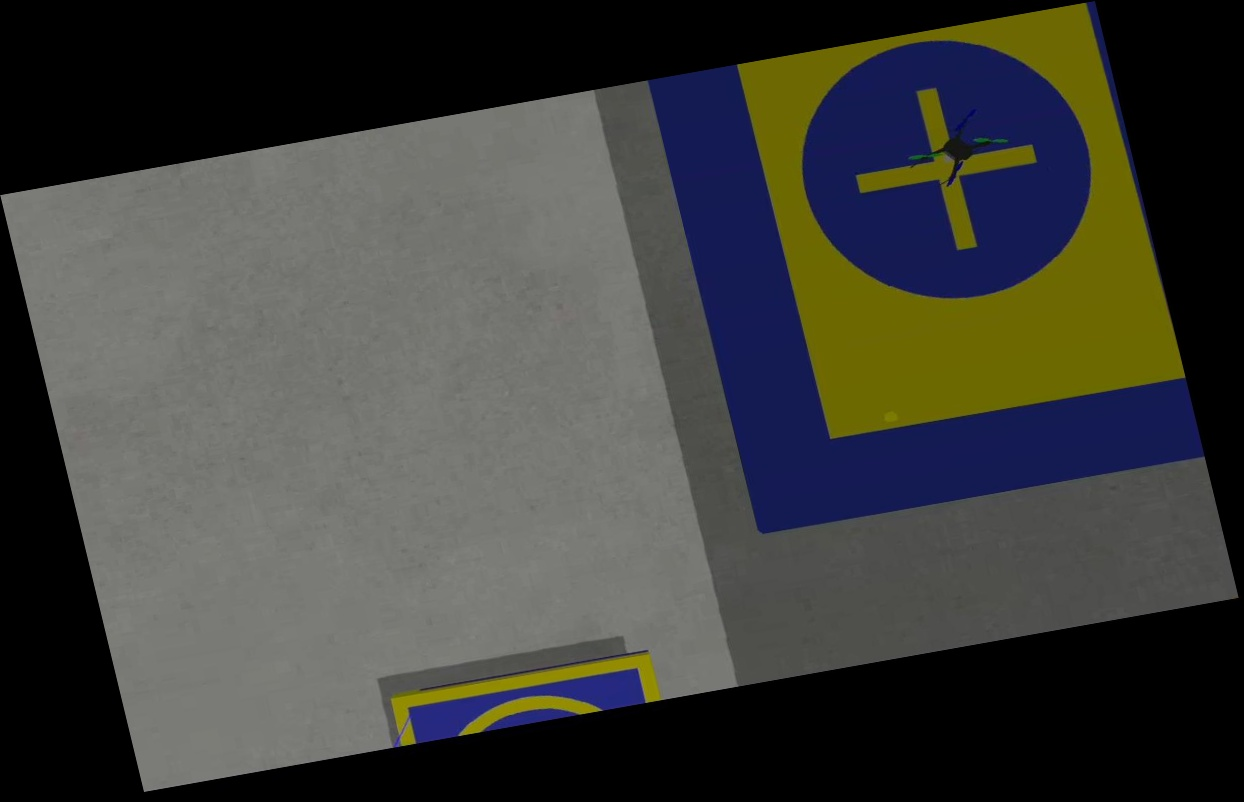large_base: (649, 0, 1206, 531)
small_base: (389, 653, 659, 748)
